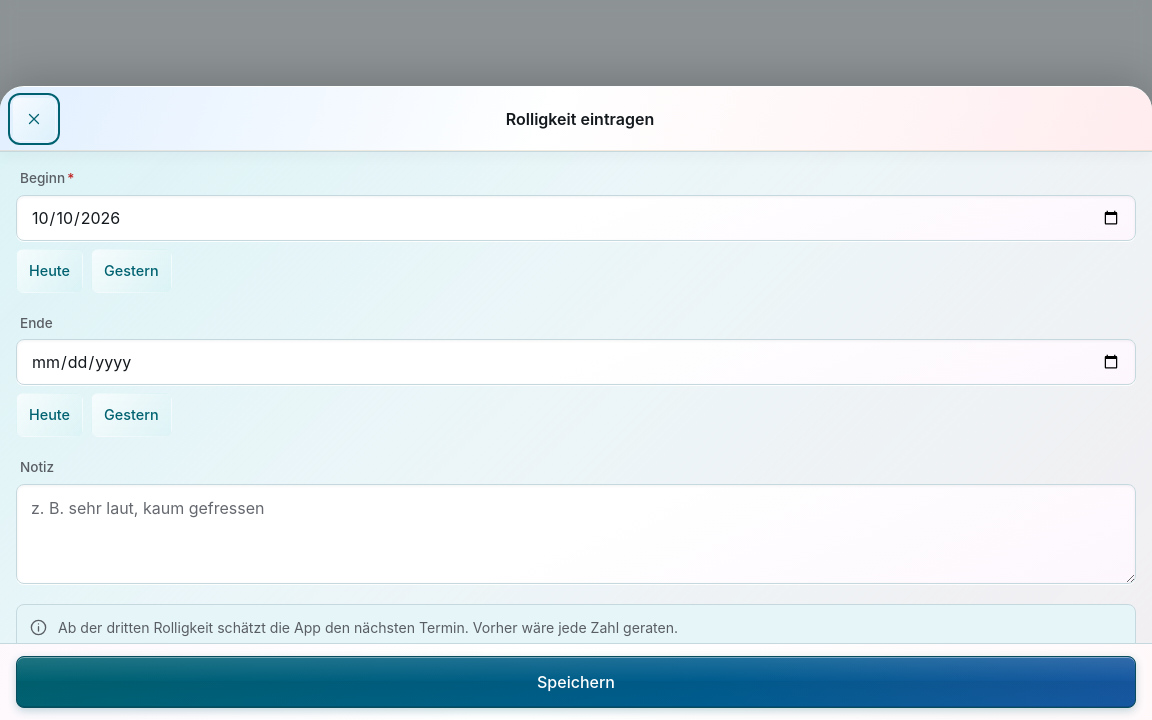
Test: HeatSheet › verlangt einen Beginn
Clear the date field labelled "Beginn*" at (576, 218), box top-left (16, 195), bottom-right (1136, 241)
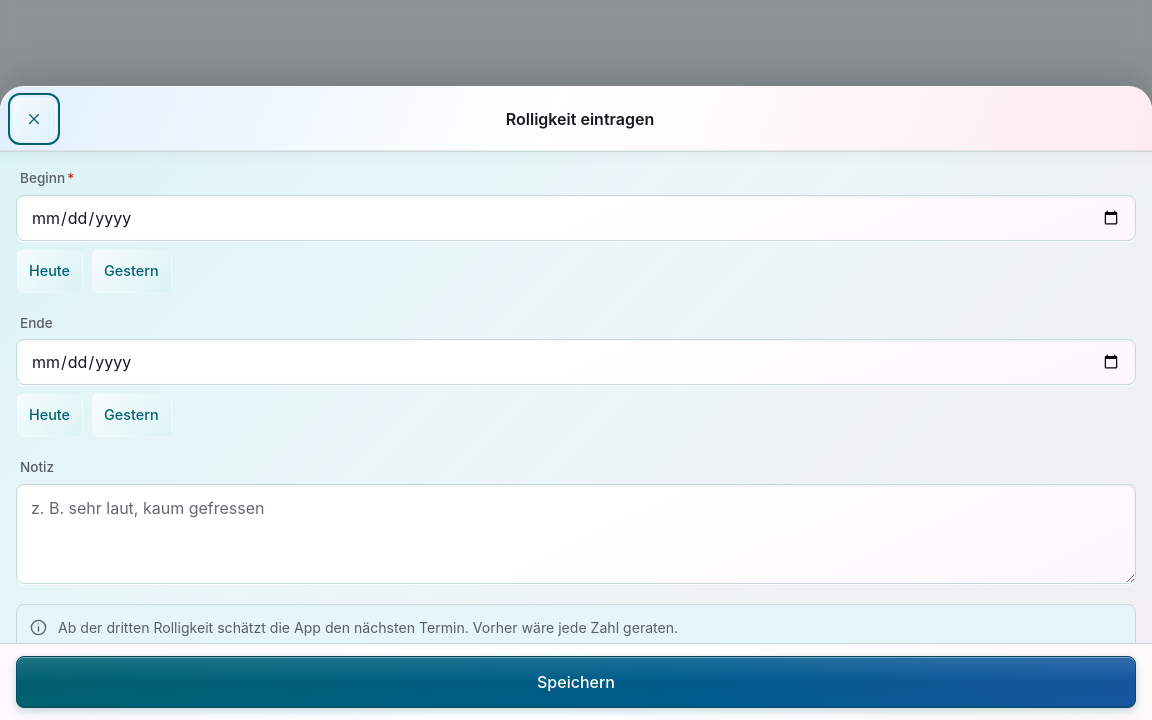
Click the button "Speichern".
click(576, 682)  # box top-left (16, 656), bottom-right (1136, 708)
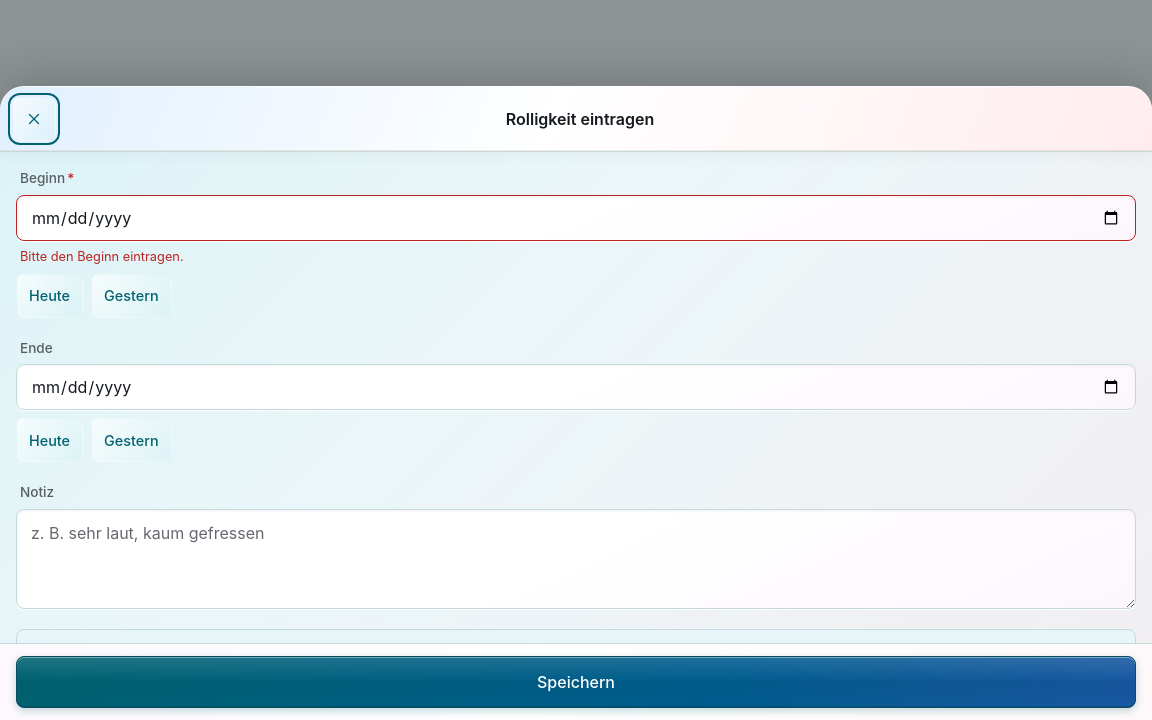
Check: the text "Bitte den Beginn eintragen." is shown, box top-left (20, 249), bottom-right (184, 264)
